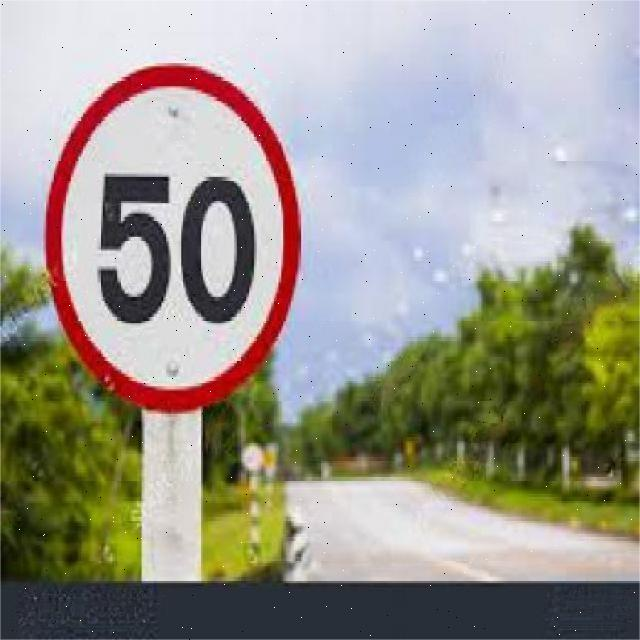speed limit 50: (44, 57, 303, 413)
